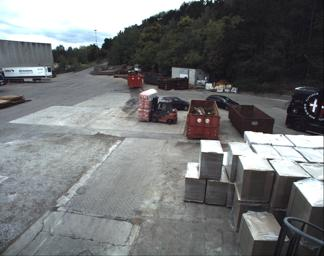rockwool_batts: (134, 85, 155, 118)
